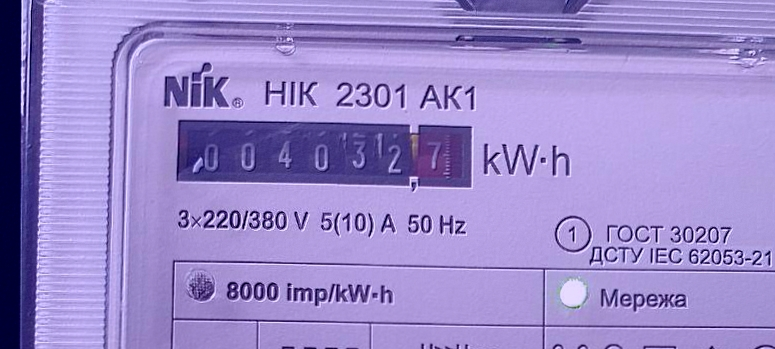0: (237, 139, 257, 172), (201, 139, 220, 172), (311, 140, 330, 173)
2: (385, 141, 403, 175)
3: (349, 138, 367, 170)
4: (274, 137, 294, 173)
7: (426, 138, 443, 171)
screen: (166, 111, 480, 199)
